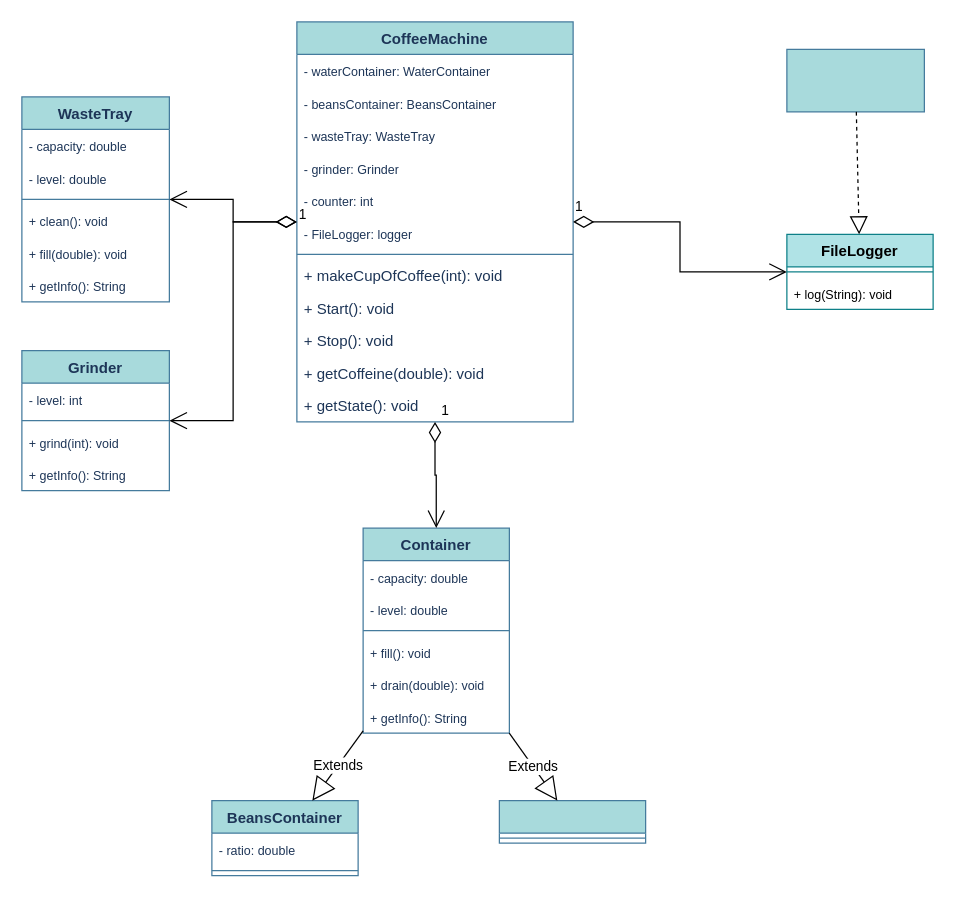
Image size: 955x898. Some labels were removed from this diagram. Each missing label, with the centre of its shape:
"WaterContainer" belongs at (572,821).
"«interface» Logger" belongs at (855,80).
